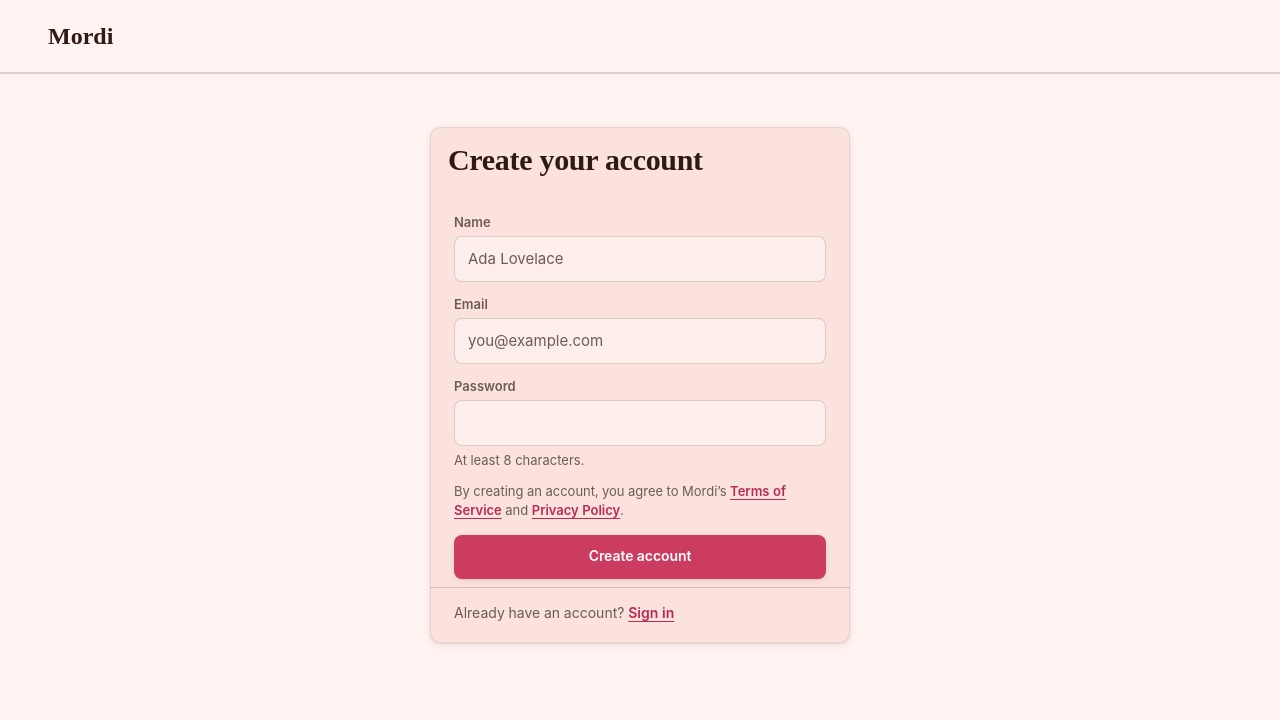
Register › shows a generic error message on failed registration, without leaking backend detail
Type "Test User" into the field labelled "Name" at (640, 259), box [454,236,826,282]
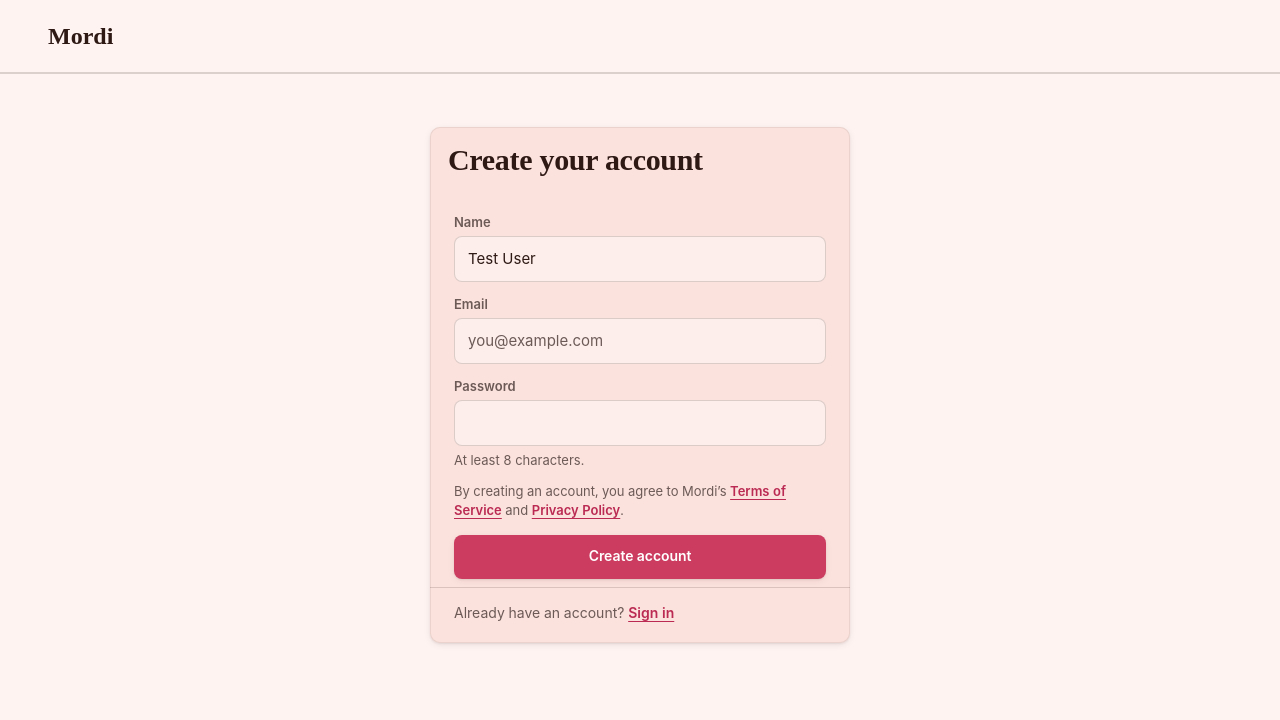
Type "taken@example.com" into the field labelled "Email" at (640, 341), box [454,318,826,364]
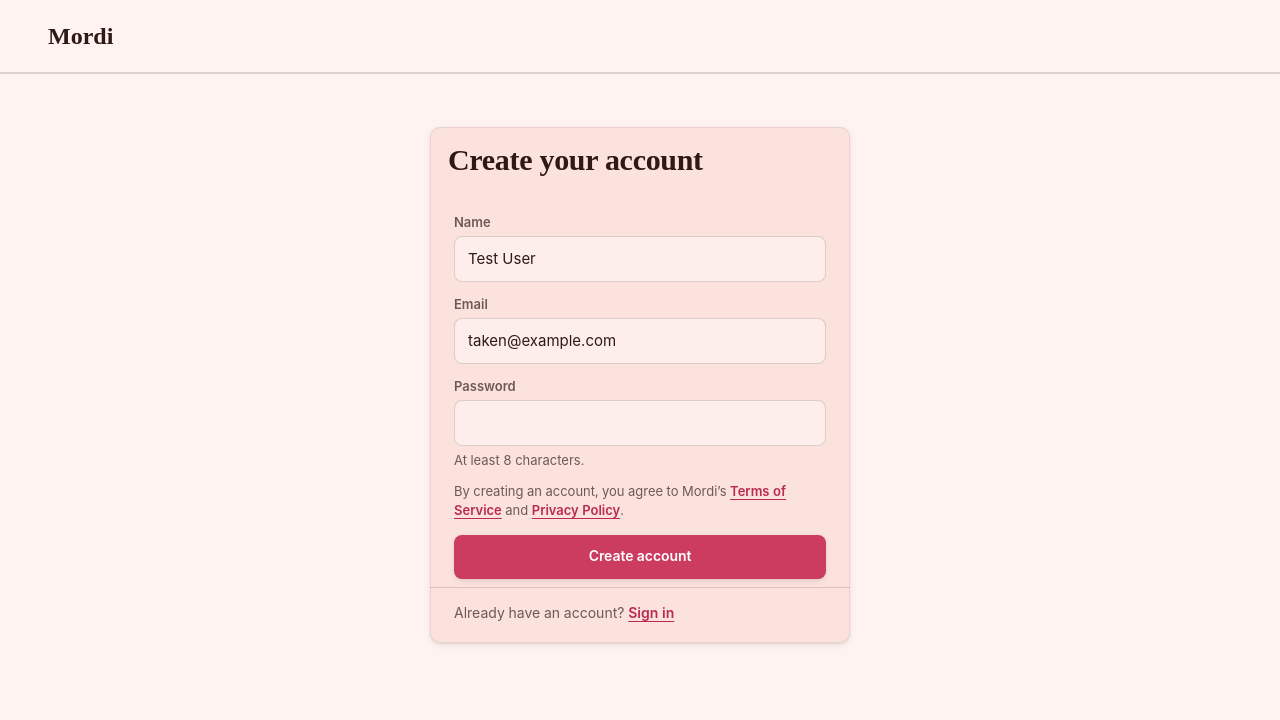
Type "correcthorse" into the password field labelled "Password" at (640, 423), box [454,400,826,446]
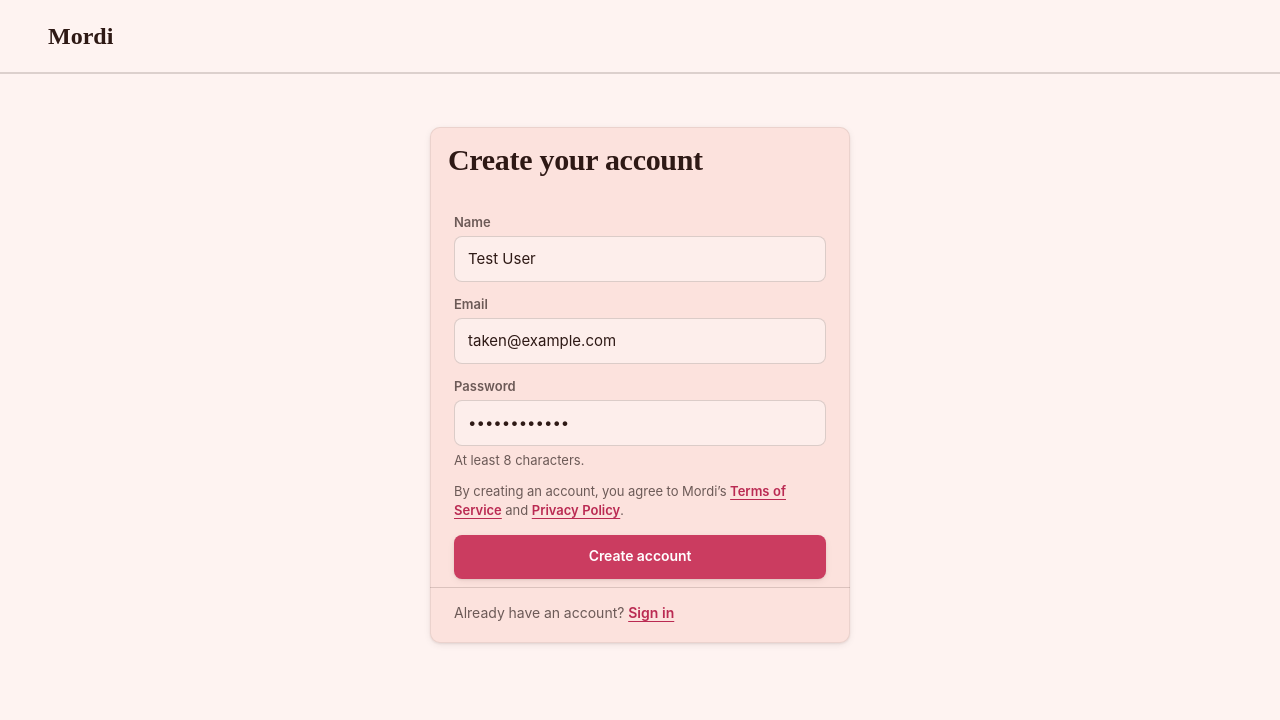
Click the button "Create account" at (640, 557), box [454,535,826,579]
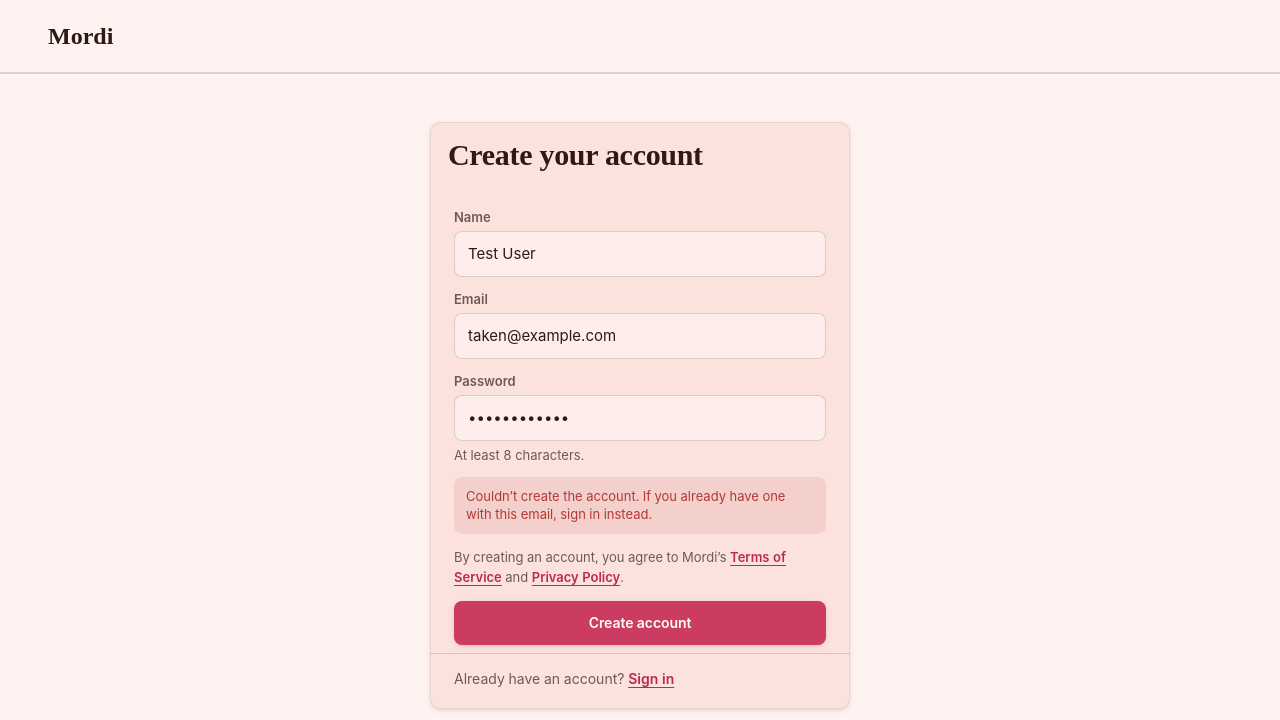
Expected: the text "Couldn’t create the account. If you already have one with this email, sign in instead." is shown, [466,488,786,522]
